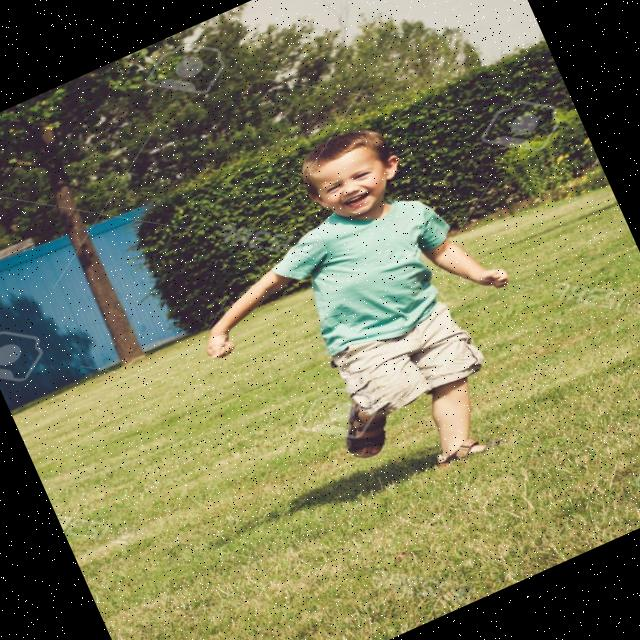Person: (146, 96, 570, 541)
